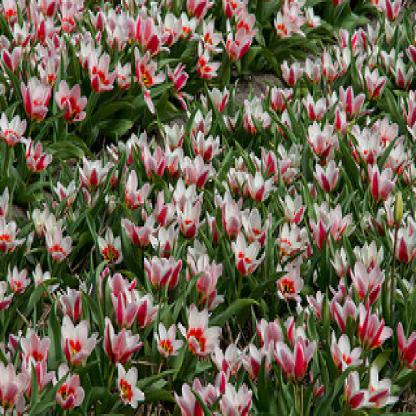TULIP: (10, 9, 408, 401)
